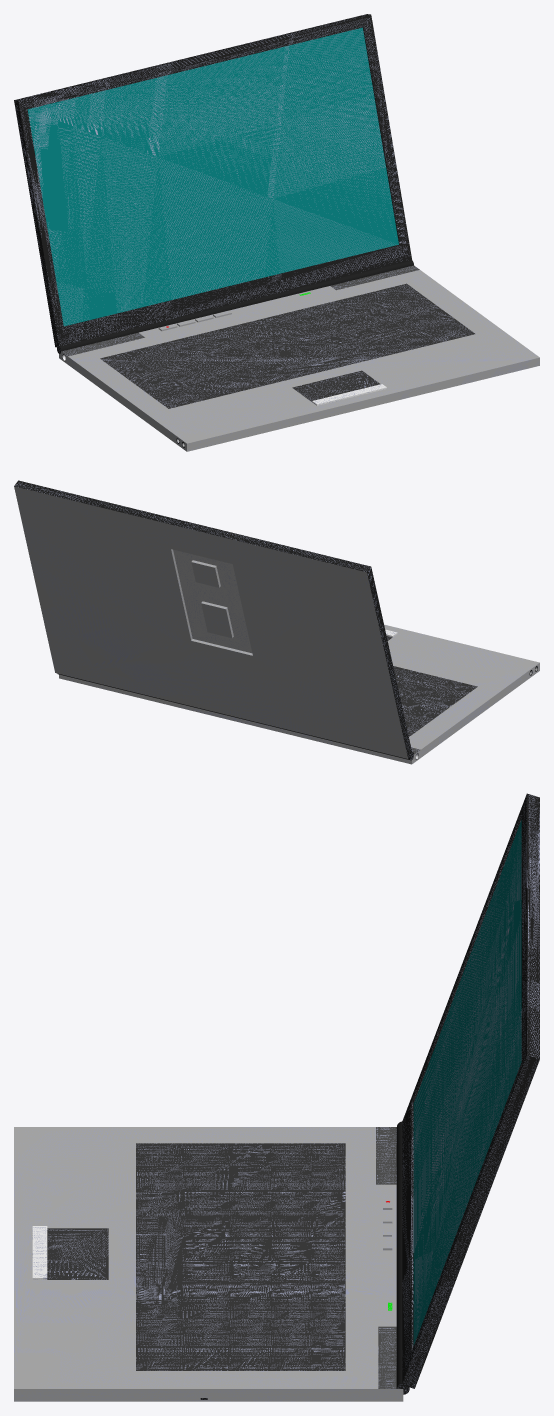
The picture shows the model from 3 angles, top to bottom: view 1: azimuth 30°, elevation 25°; view 2: azimuth 150°, elevation 25°; view 3: azimuth 270°, elevation 25°; orthographic projection. The views are drawn at different scales.
Parts seen in each view (by area): view 1: SketchUp (×9); view 2: SketchUp (×9); view 3: SketchUp (×10).
Boxes of the visible parts, box(x1,y1,x2,y2) form: SketchUp (×9): box(14, 14, 539, 451); SketchUp (×9): box(14, 480, 539, 764); SketchUp (×10): box(14, 793, 539, 1401).
Size of the model in its own units: 10.59 by 8.99 by 6.53.
